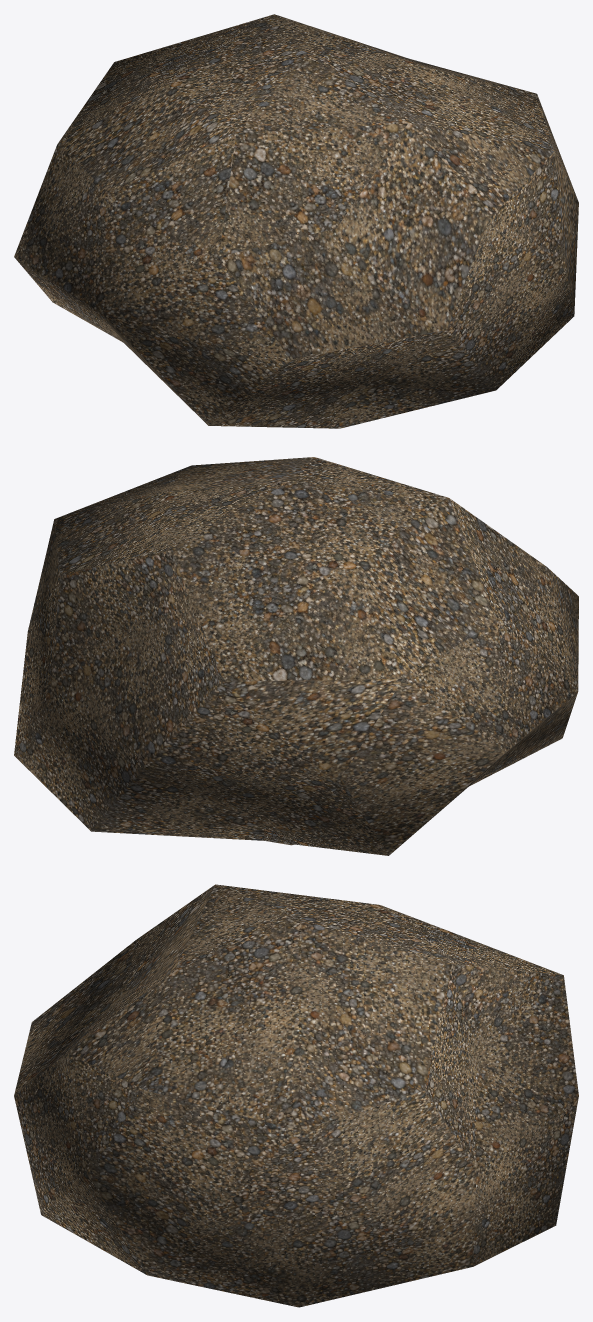
File: level_hc_native_122_0.glb
The picture shows the model from 3 angles, top to bottom: view 1: azimuth 30°, elevation 25°; view 2: azimuth 150°, elevation 25°; view 3: azimuth 270°, elevation 25°; orthographic projection. The views are drawn at different scales.
Parts seen in each view (by area): view 1: level_hc_native_122_0; view 2: level_hc_native_122_0; view 3: level_hc_native_122_0.
Part boxes in pixels (x1,y1,x2,y2): level_hc_native_122_0: (14,14,578,428); level_hc_native_122_0: (14,457,578,855); level_hc_native_122_0: (14,884,578,1307).
Bounding box in the file's own units: 0.621 × 0.4356 × 0.6191.
Materials: 1 (1 with a texture image).
